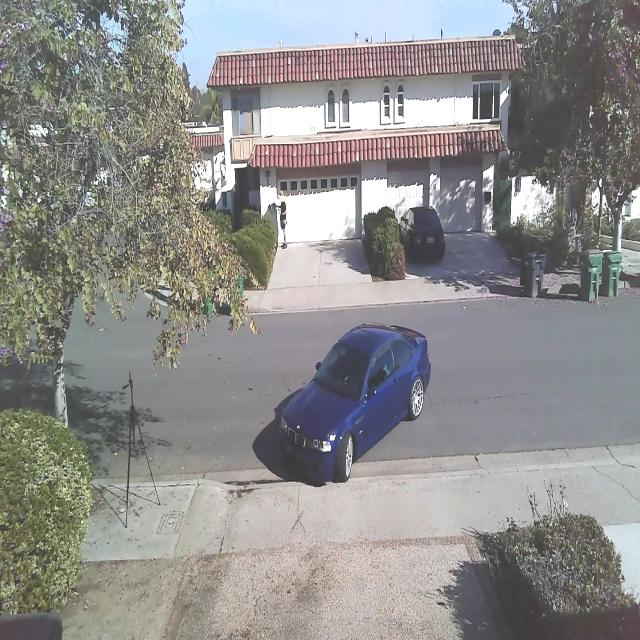Carbeetle: (264, 316, 444, 488)
Civilian: (399, 205, 445, 263)
